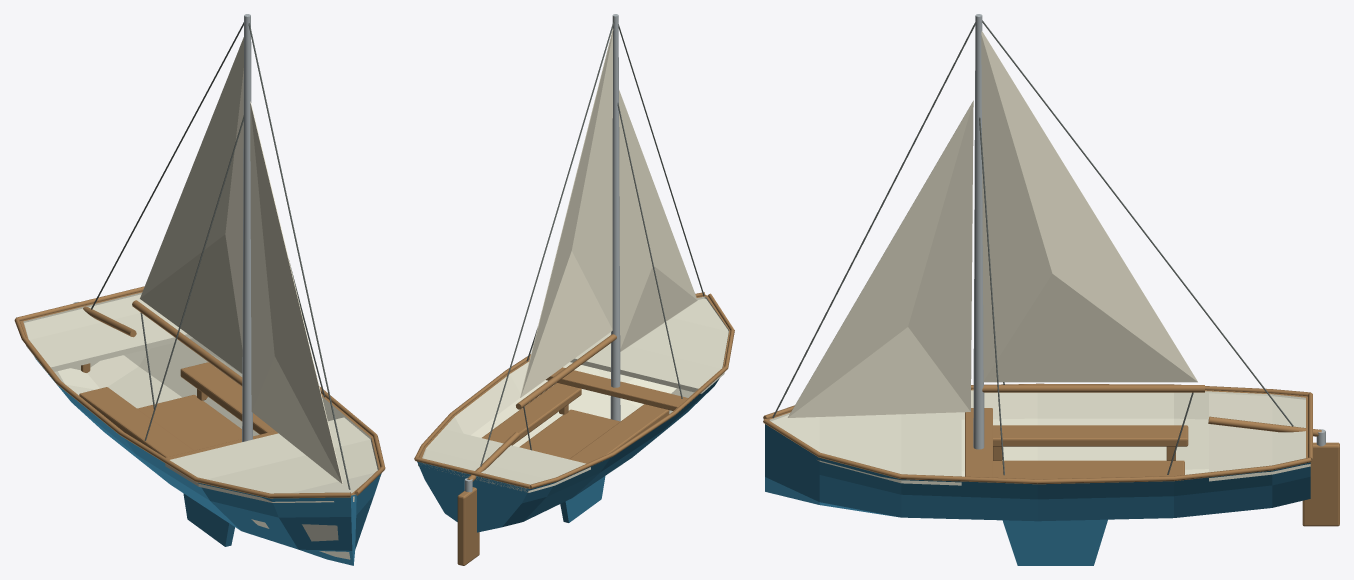
Rendered from boat_small_sailboat.glb.
3 renders of one model, left to right at view 1: azimuth 30°, elevation 25°; view 2: azimuth 150°, elevation 25°; view 3: azimuth 270°, elevation 25°, orthographic. The views are drawn at different scales.
Parts seen in each view (by area): view 1: Main sail, Sailboat hollow hull, Forward jib sail, Foredeck, Stern deck, Mast, Cockpit sole, Cockpit side bench, Sailboat gunwale rail, Cockpit side bench.001, Small centerboard, Boom (+5 smaller); view 2: Main sail, Sailboat hollow hull, Forward jib sail, Foredeck, Stern deck, Mast, Cockpit sole, Cockpit side bench.001, Mast support thwart, Cockpit side bench, Stern rudder, Sailboat gunwale rail (+8 smaller); view 3: Main sail, Sailboat hollow hull, Forward jib sail, Foredeck, Stern deck, Cockpit side bench, Small centerboard, Mast, Sailboat gunwale rail.001, Cockpit sole, Stern rudder, Boom (+6 smaller).
Boxes of the visible parts, <box> form: Main sail: <box>140,37,243,373</box>; Sailboat hollow hull: <box>20,291,381,565</box>; Forward jib sail: <box>250,101,342,484</box>; Foredeck: <box>165,417,380,502</box>; Stern deck: <box>24,294,192,373</box>; Mast: <box>242,14,252,441</box>; Cockpit sole: <box>137,395,241,450</box>; Cockpit side bench: <box>79,387,193,457</box>; Sailboat gunwale rail: <box>14,318,351,498</box>; Cockpit side bench.001: <box>180,362,274,434</box>; Small centerboard: <box>183,493,234,546</box>; Boom: <box>132,300,242,386</box>; Main sail: <box>520,28,613,397</box>; Sailboat hollow hull: <box>417,295,730,532</box>; Forward jib sail: <box>619,90,697,351</box>; Foredeck: <box>570,298,728,393</box>; Stern deck: <box>418,429,590,492</box>; Mast: <box>610,14,620,421</box>; Cockpit sole: <box>519,409,620,459</box>; Cockpit side bench.001: <box>482,383,581,445</box>; Mast support thwart: <box>546,367,687,410</box>; Cockpit side bench: <box>569,404,669,463</box>; Stern rudder: <box>457,487,479,565</box>; Sailboat gunwale rail: <box>530,293,734,488</box>; Main sail: <box>981,31,1197,382</box>; Sailboat hollow hull: <box>765,389,1310,521</box>; Forward jib sail: <box>788,100,973,417</box>; Foredeck: <box>771,412,961,485</box>; Stern deck: <box>1209,393,1310,481</box>; Cockpit side bench: <box>993,425,1188,446</box>; Small centerboard: <box>1002,519,1107,565</box>; Mast: <box>973,14,984,449</box>; Sailboat gunwale rail.001: <box>763,419,1311,484</box>; Cockpit sole: <box>993,460,1184,474</box>; Stern rudder: <box>1302,442,1339,526</box>; Boom: <box>982,385,1204,392</box>.
Size of the model in its own units: 1.73 by 4.53 by 4.31.
